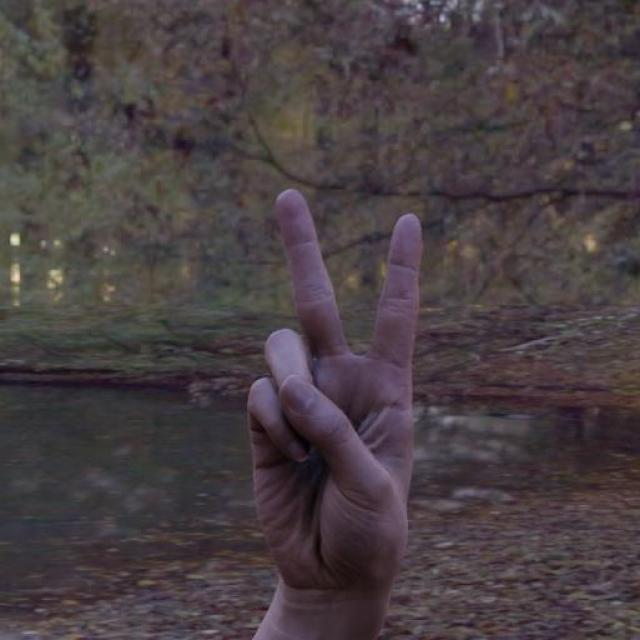V: (230, 174, 429, 630)
